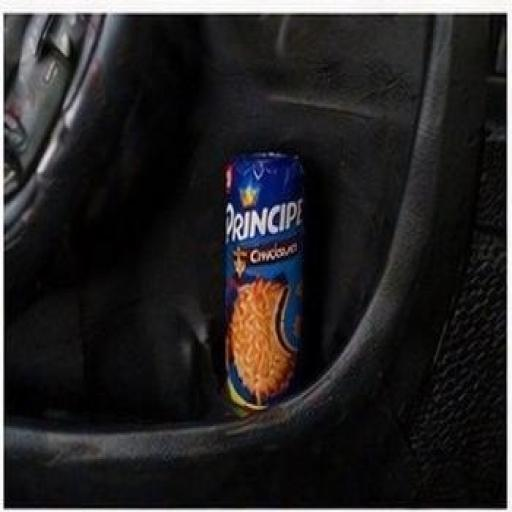prince: (168, 120, 395, 478)
